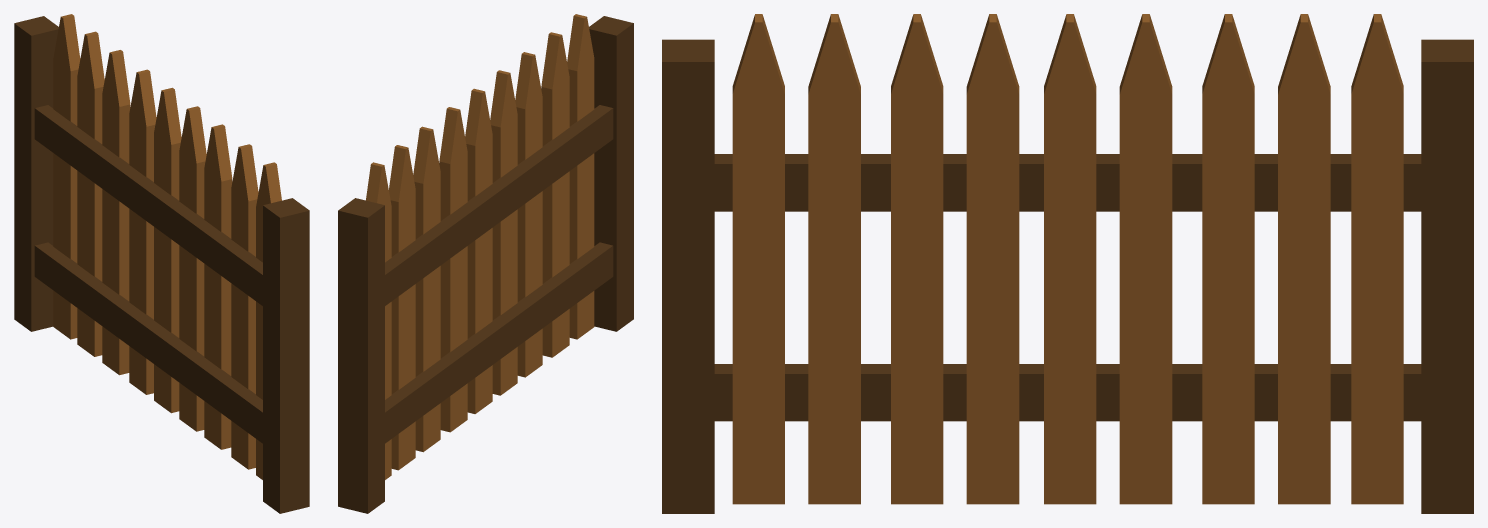
The model's file is Fence_New_4_1.fbx.
3 views of the same model, side by side, from view 1: azimuth 30°, elevation 25°; view 2: azimuth 150°, elevation 25°; view 3: azimuth 270°, elevation 25° (orthographic). The views are drawn at different scales.
Parts seen in each view (by area): view 1: Cube.054, Cube.045; view 2: Cube.054, Cube.045; view 3: Cube.054, Cube.045.
Boxes of the visible parts, x1,y1,x2,y2 form: Cube.054: (53,14,281,479); Cube.045: (14,16,309,513); Cube.054: (366,14,594,479); Cube.045: (338,16,633,513); Cube.054: (732,14,1403,504); Cube.045: (662,39,1473,513).
Bounding box in the file's own units: 24.6 × 253 × 381.
